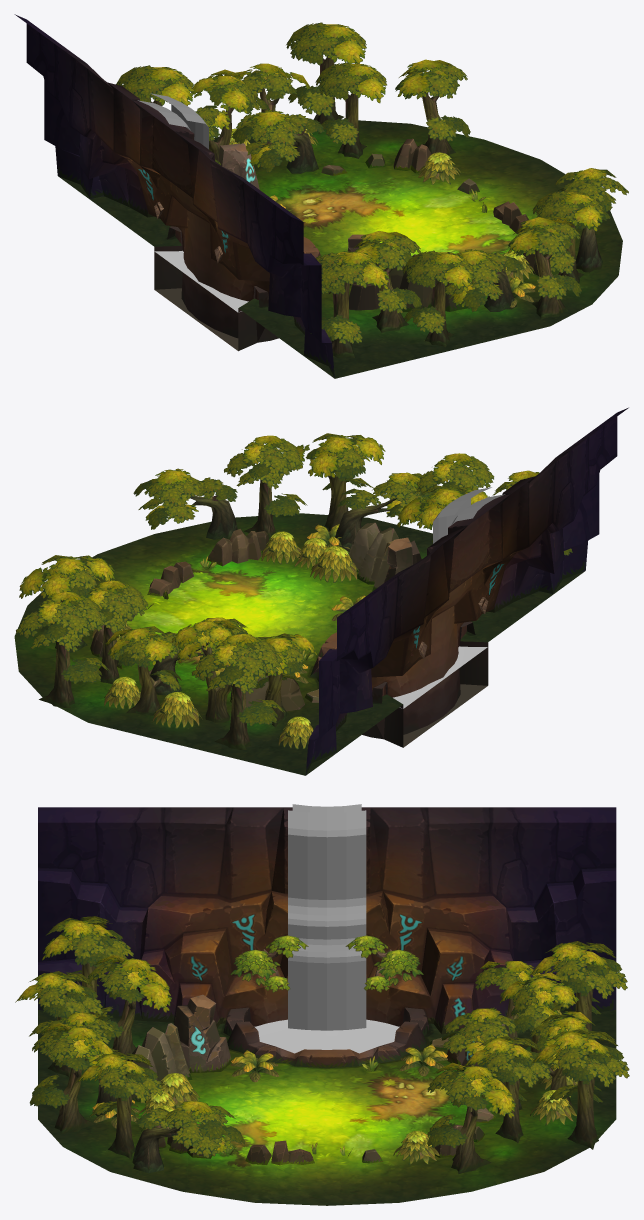
3 views of the same model, one above another, from view 1: azimuth 30°, elevation 25°; view 2: azimuth 150°, elevation 25°; view 3: azimuth 270°, elevation 25° (orthographic). The views are drawn at different scales.
Visible parts, largest first — view 1: c02tree, c02ground, c02ground02, c02stone, c02grass, pub2, c02water; view 2: c02tree, c02ground, c02ground02, c02stone, c02grass, pub2, c02water; view 3: c02ground02, c02ground, c02tree, pub2, c02grass, c02stone, c02water.
Part boxes in pixels (bbox=[...]): c02tree: bbox=[116, 22, 628, 357]; c02ground: bbox=[58, 119, 622, 378]; c02ground02: bbox=[14, 14, 334, 378]; c02stone: bbox=[218, 138, 551, 312]; c02grass: bbox=[154, 128, 535, 307]; pub2: bbox=[150, 93, 208, 149]; c02water: bbox=[154, 250, 248, 312]; c02tree: bbox=[16, 433, 572, 749]; c02ground: bbox=[14, 513, 584, 775]; c02ground02: bbox=[305, 407, 628, 775]; c02stone: bbox=[90, 522, 421, 711]; c02grass: bbox=[91, 524, 488, 749]; pub2: bbox=[433, 487, 491, 543]; c02water: bbox=[393, 646, 487, 708]; c02ground02: bbox=[38, 807, 616, 1034]; c02ground: bbox=[38, 1007, 616, 1205]; c02tree: bbox=[15, 916, 629, 1173]; pub2: bbox=[288, 810, 366, 1030]; c02grass: bbox=[92, 935, 577, 1164]; c02stone: bbox=[125, 994, 510, 1165]; c02water: bbox=[254, 1019, 399, 1053].
Size of what is drawn, in the model's own units: 2680 by 1321 by 3195.
